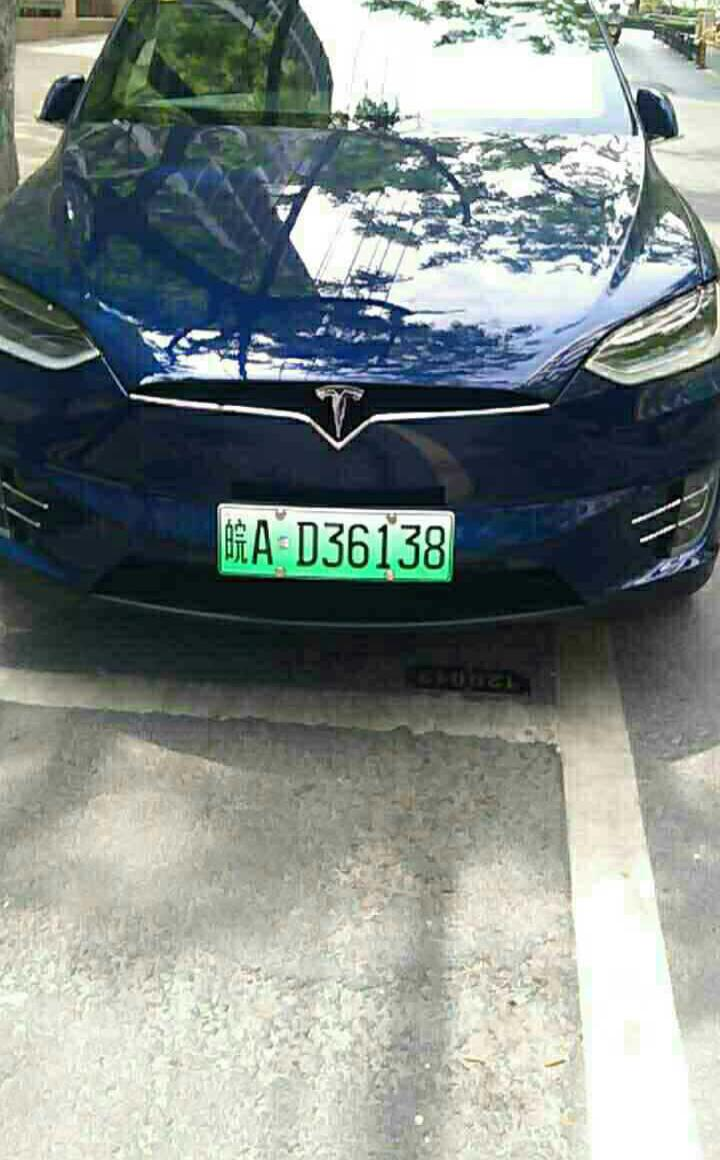car_green: (213, 499, 460, 598)
